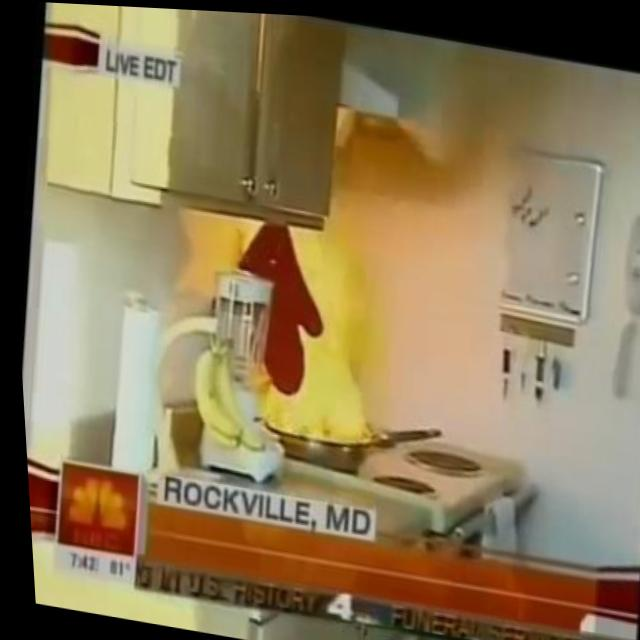fire: (228, 209, 403, 448)
